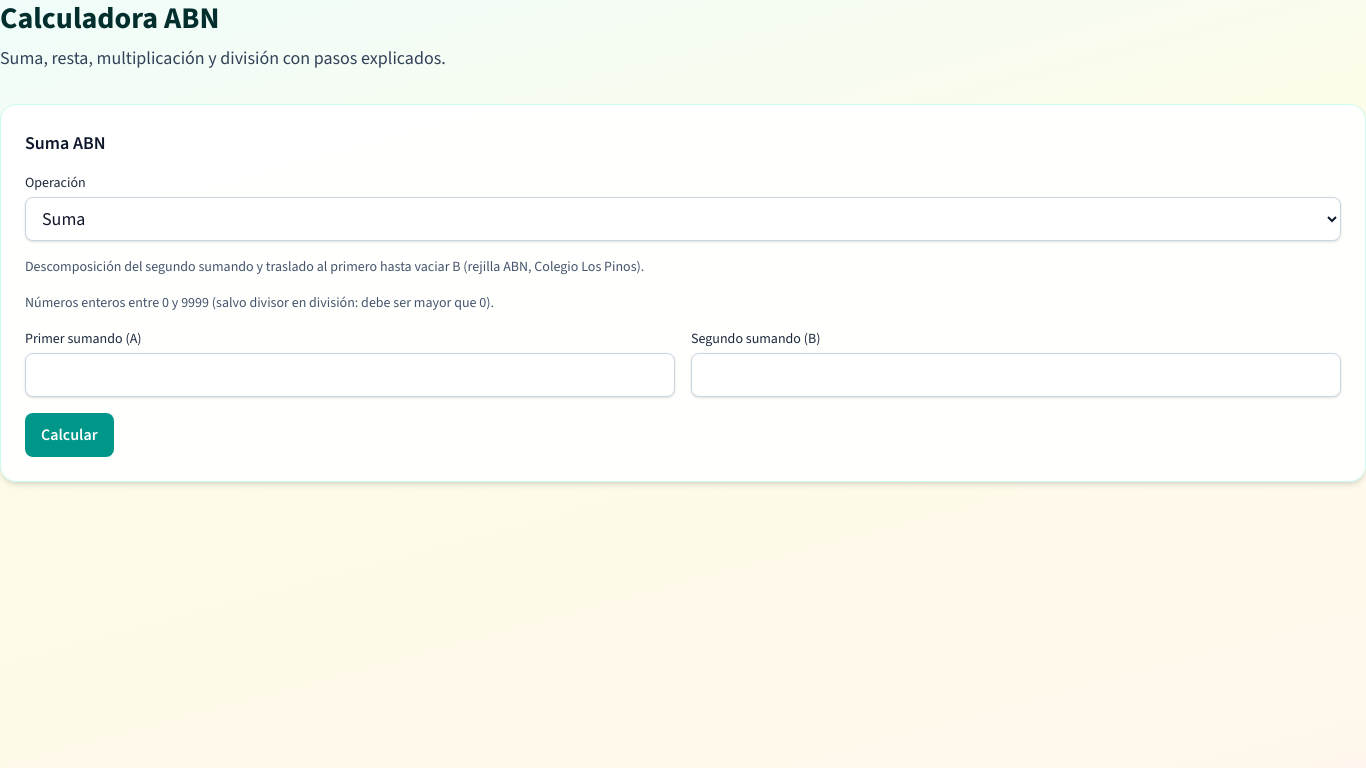
Test: CalculatorPage › renders first step after a valid calculation
Type "348" into the field labelled "Primer sumando (A)".
click(350, 375); type("348")  # box left=25, top=353, right=675, bottom=397
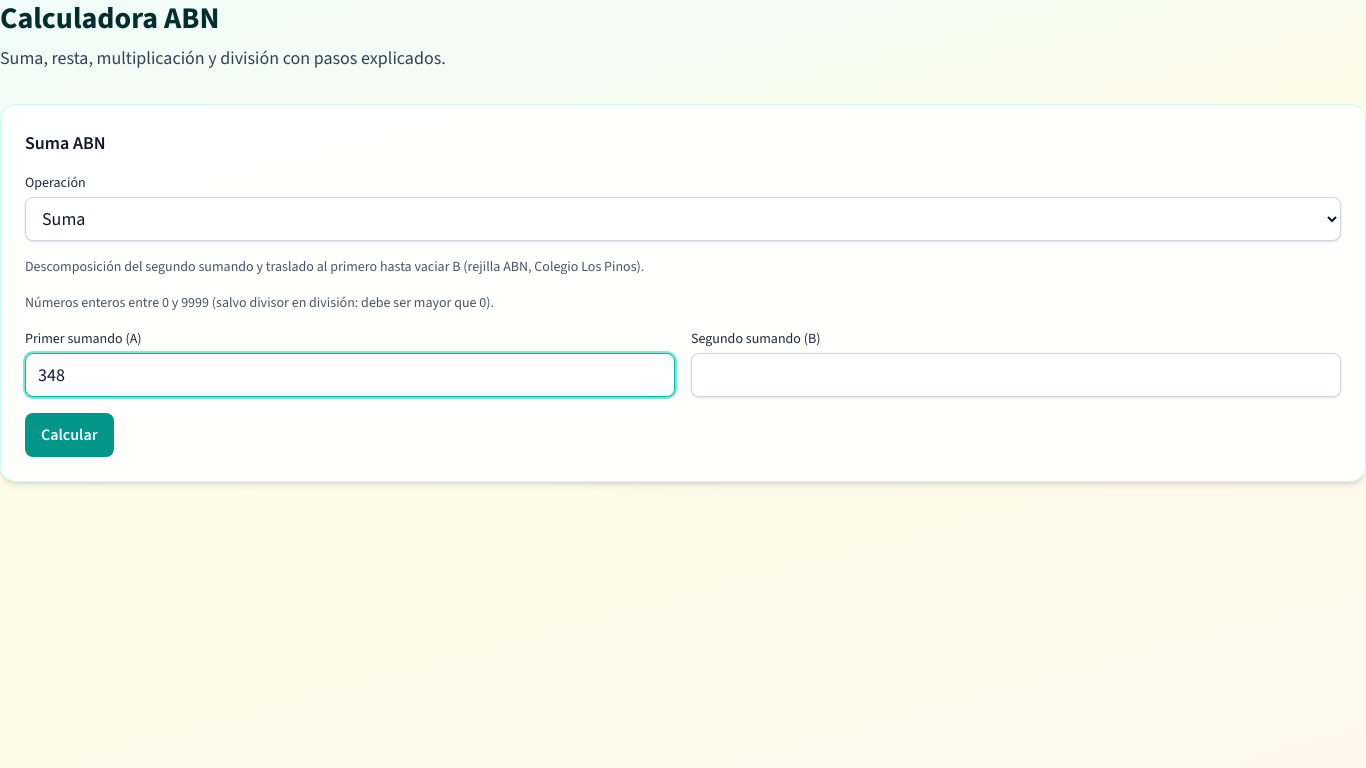
Type "276" into the field labelled "Segundo sumando (B)".
click(1016, 375); type("276")  # box left=691, top=353, right=1341, bottom=397
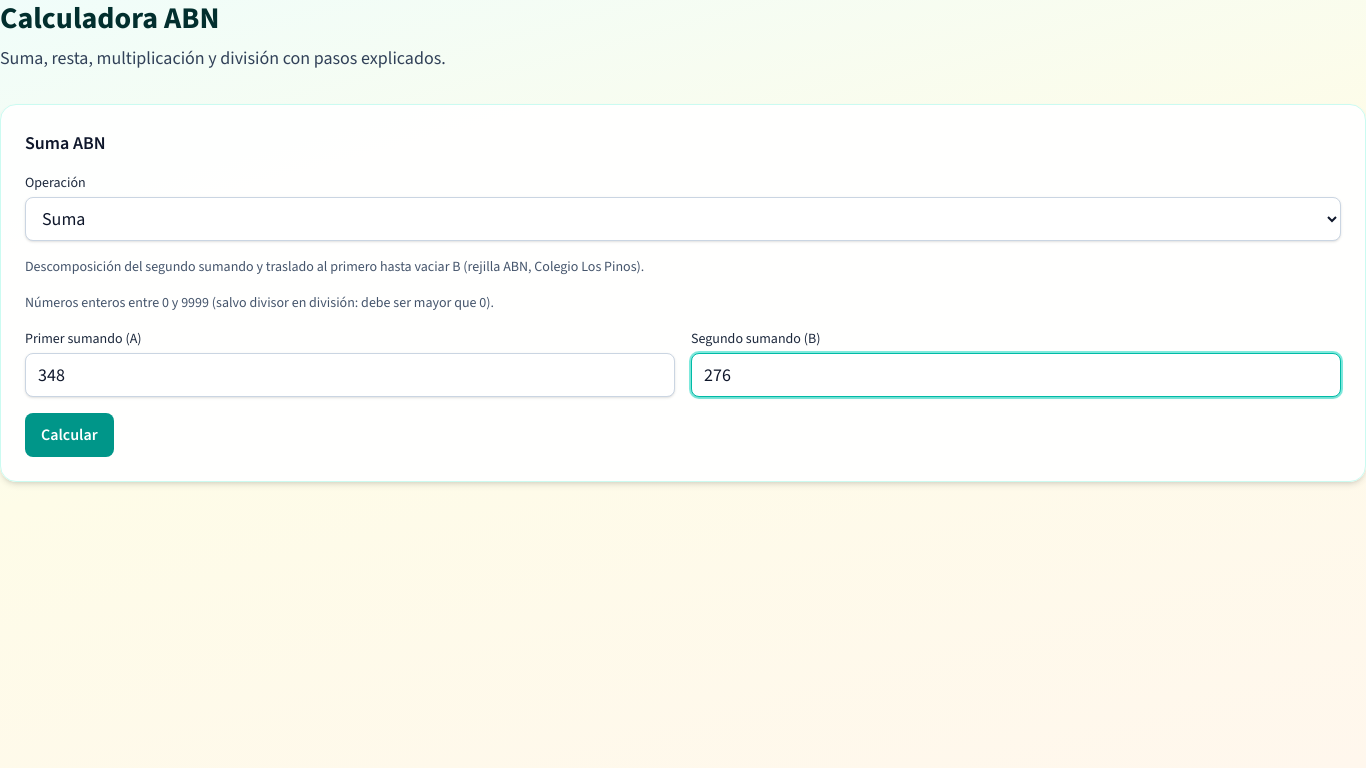
Click the button "Calcular".
click(69, 435)  # box left=25, top=413, right=114, bottom=457
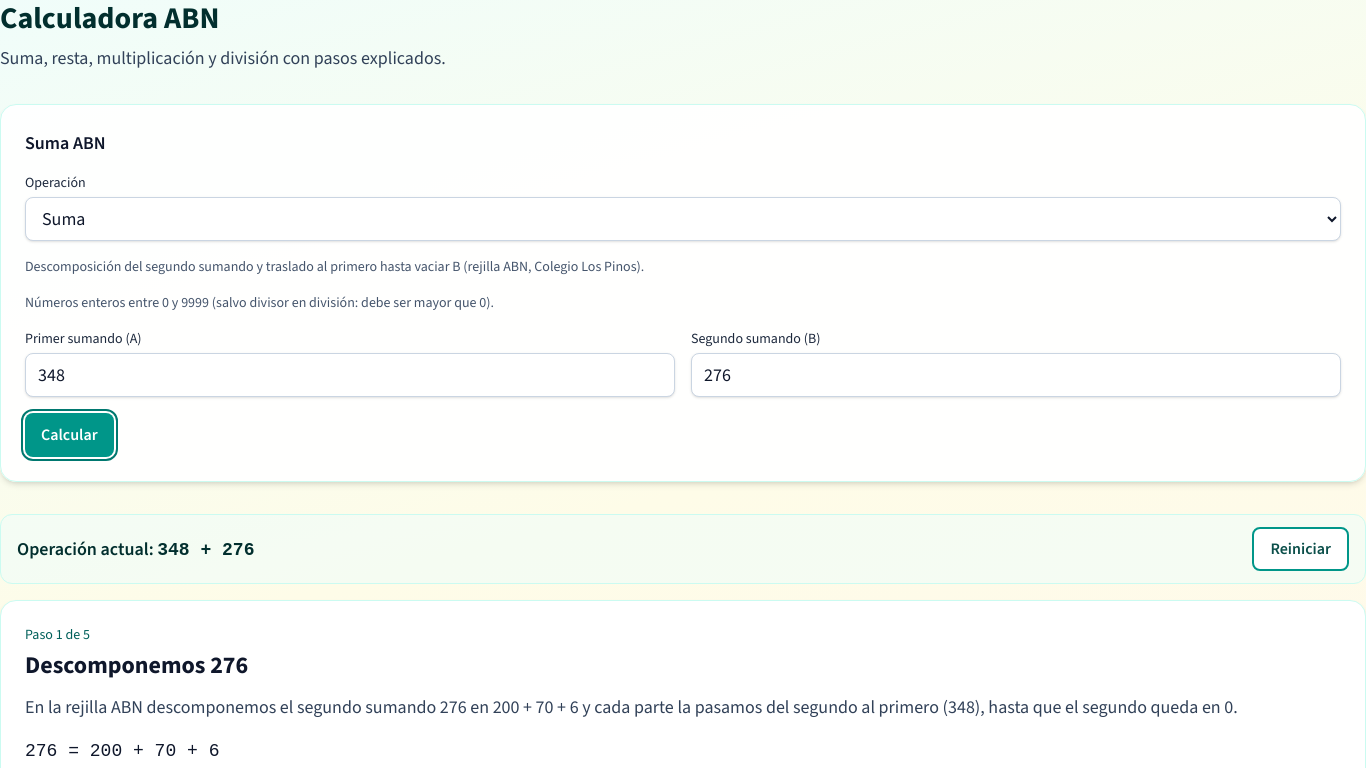
Check: the heading "Descomponemos 276" is shown, box left=25, top=649, right=248, bottom=681
